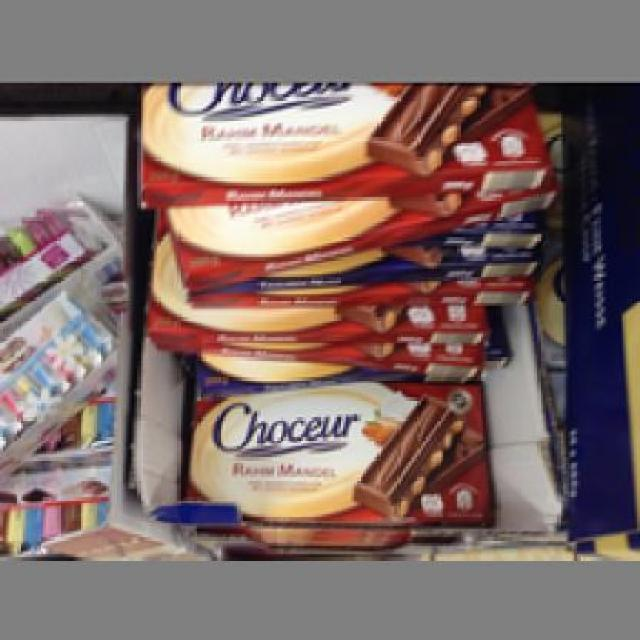Chocolate bar: (134, 80, 560, 206), (183, 377, 491, 526)
